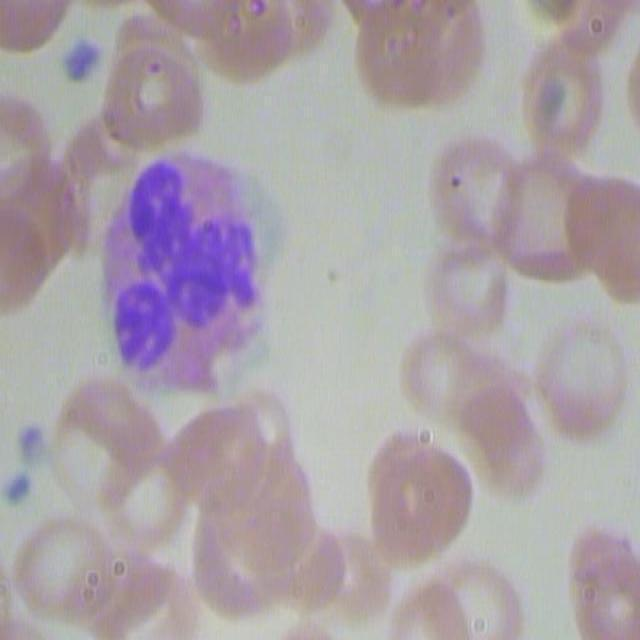Platelets: (62, 35, 101, 97), (15, 412, 53, 467), (1, 465, 38, 508)
WBC: (87, 150, 298, 398)
